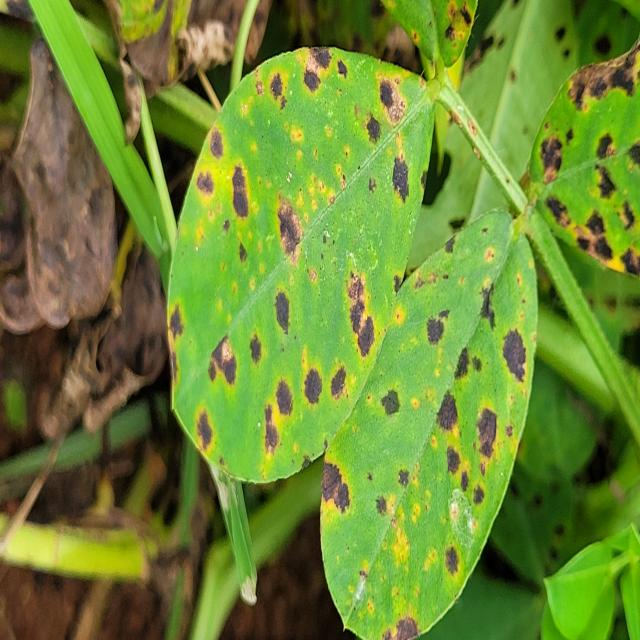Ground nut_tikka leaf spot: (164, 42, 434, 488), (320, 206, 540, 640)
